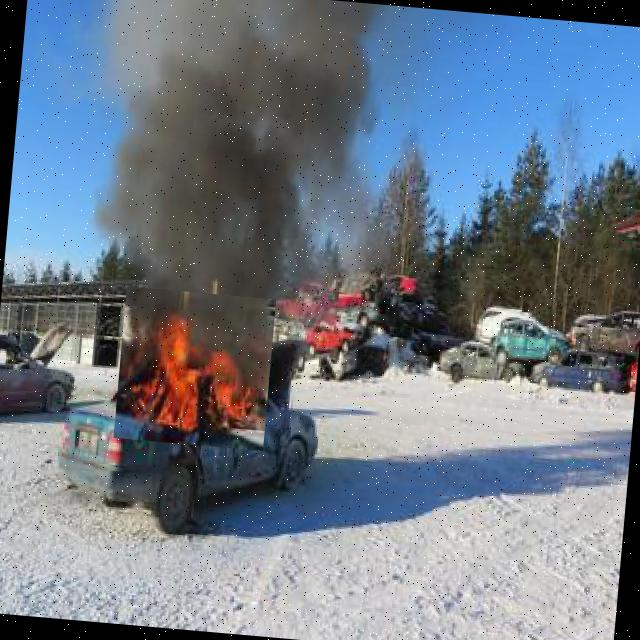fire: (113, 286, 276, 450)
